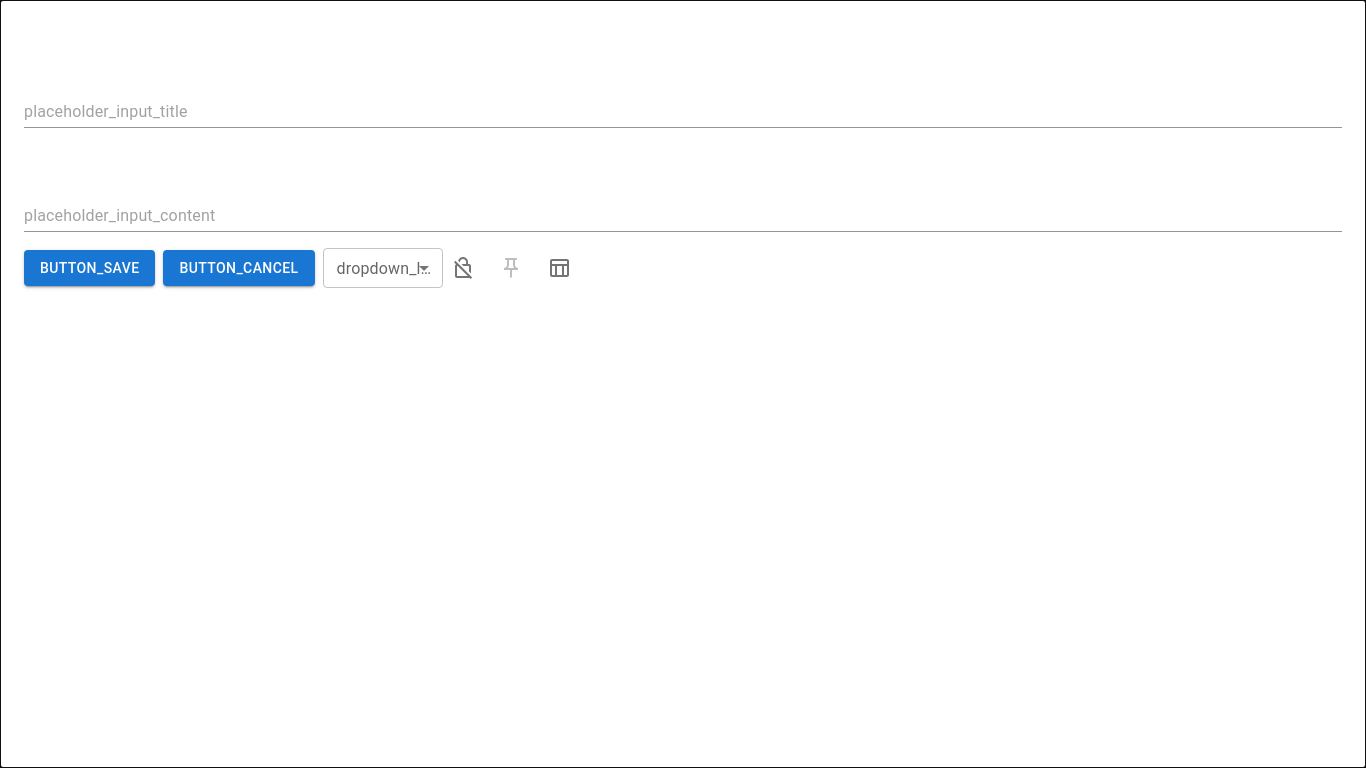
Scenario: InputFormSmallScreen › テーブルノート編集画面を開くことができる
This screenshot has width=1366, height=768.
Click the button with test id "tablenote". click: click(558, 268)
box: x1=538 y1=248 x2=578 y2=288
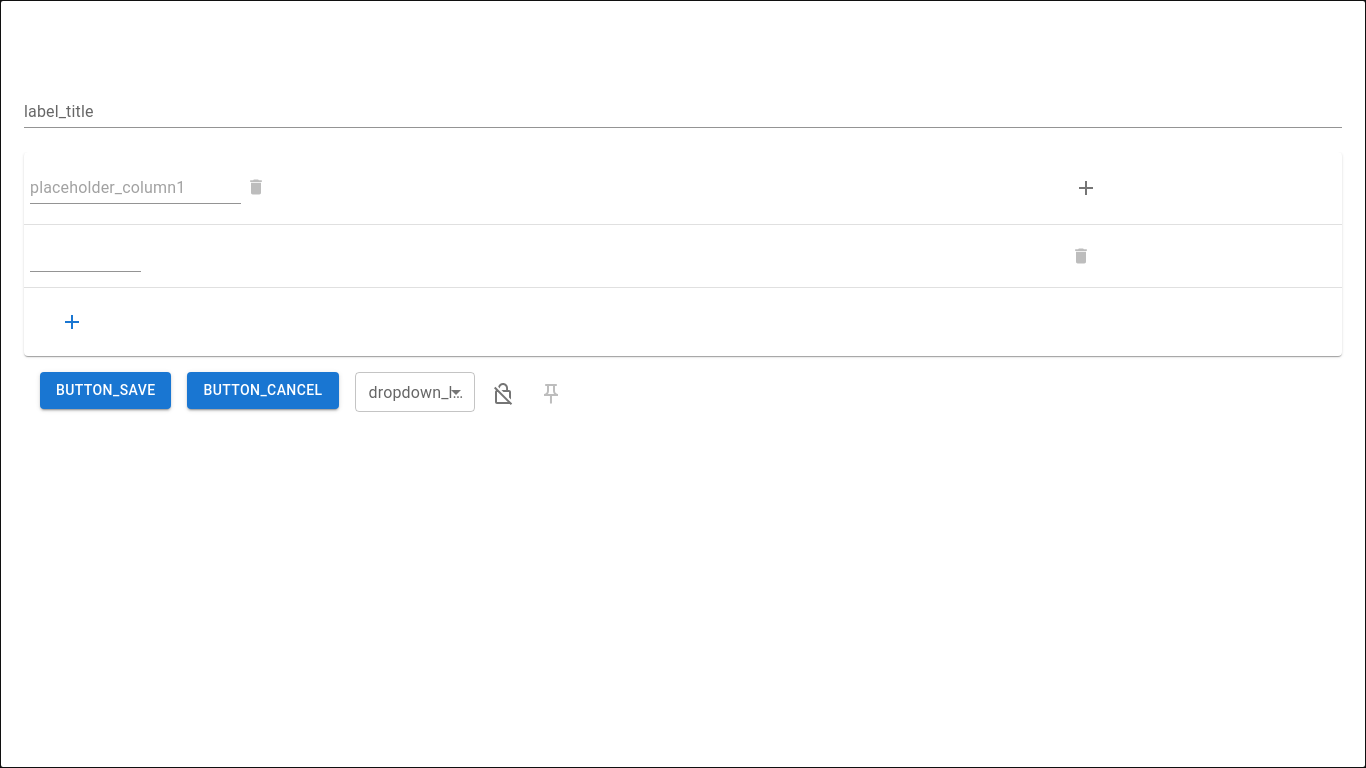
Check: the element with test id "column-input" is shown, box x1=30 y1=172 x2=241 y2=204
